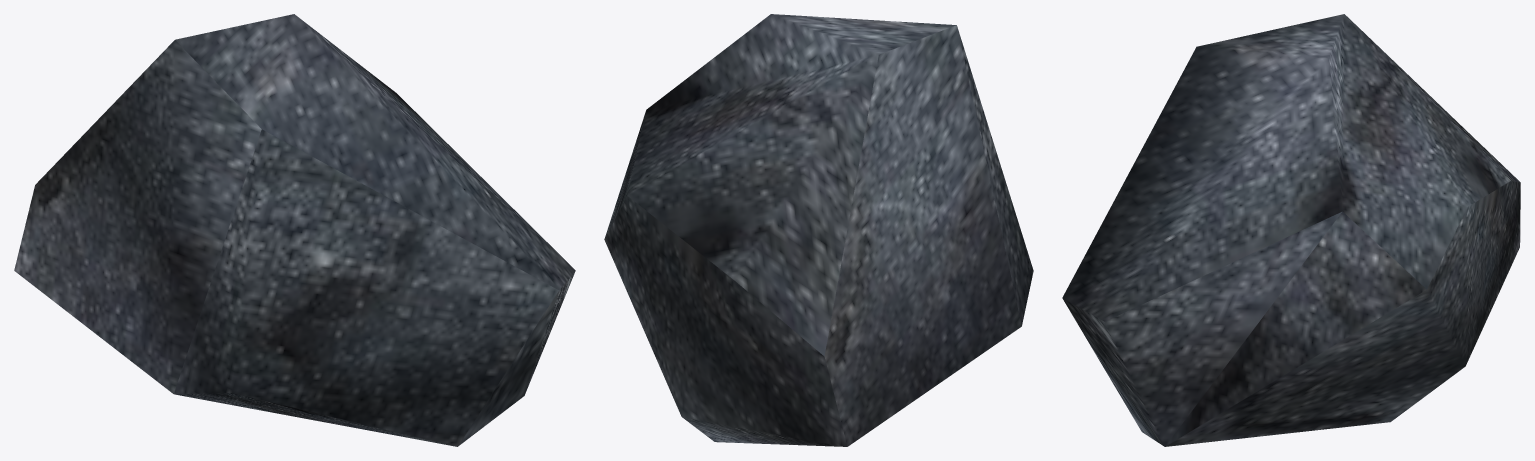
File: dark-stone-low.glb
3 renders of one model, left to right at view 1: azimuth 30°, elevation 25°; view 2: azimuth 150°, elevation 25°; view 3: azimuth 270°, elevation 25°, orthographic. The views are drawn at different scales.
Visible parts, largest first — view 1: dark-stone.001; view 2: dark-stone.001; view 3: dark-stone.001.
Part boxes in pixels (x1,y1,x2,y2): dark-stone.001: [14, 14, 575, 446]; dark-stone.001: [604, 14, 1033, 446]; dark-stone.001: [1062, 14, 1520, 446].
Size of the model in its own units: 0.8498 by 0.9206 by 1.08.
Materials: 1 (1 with a texture image).
